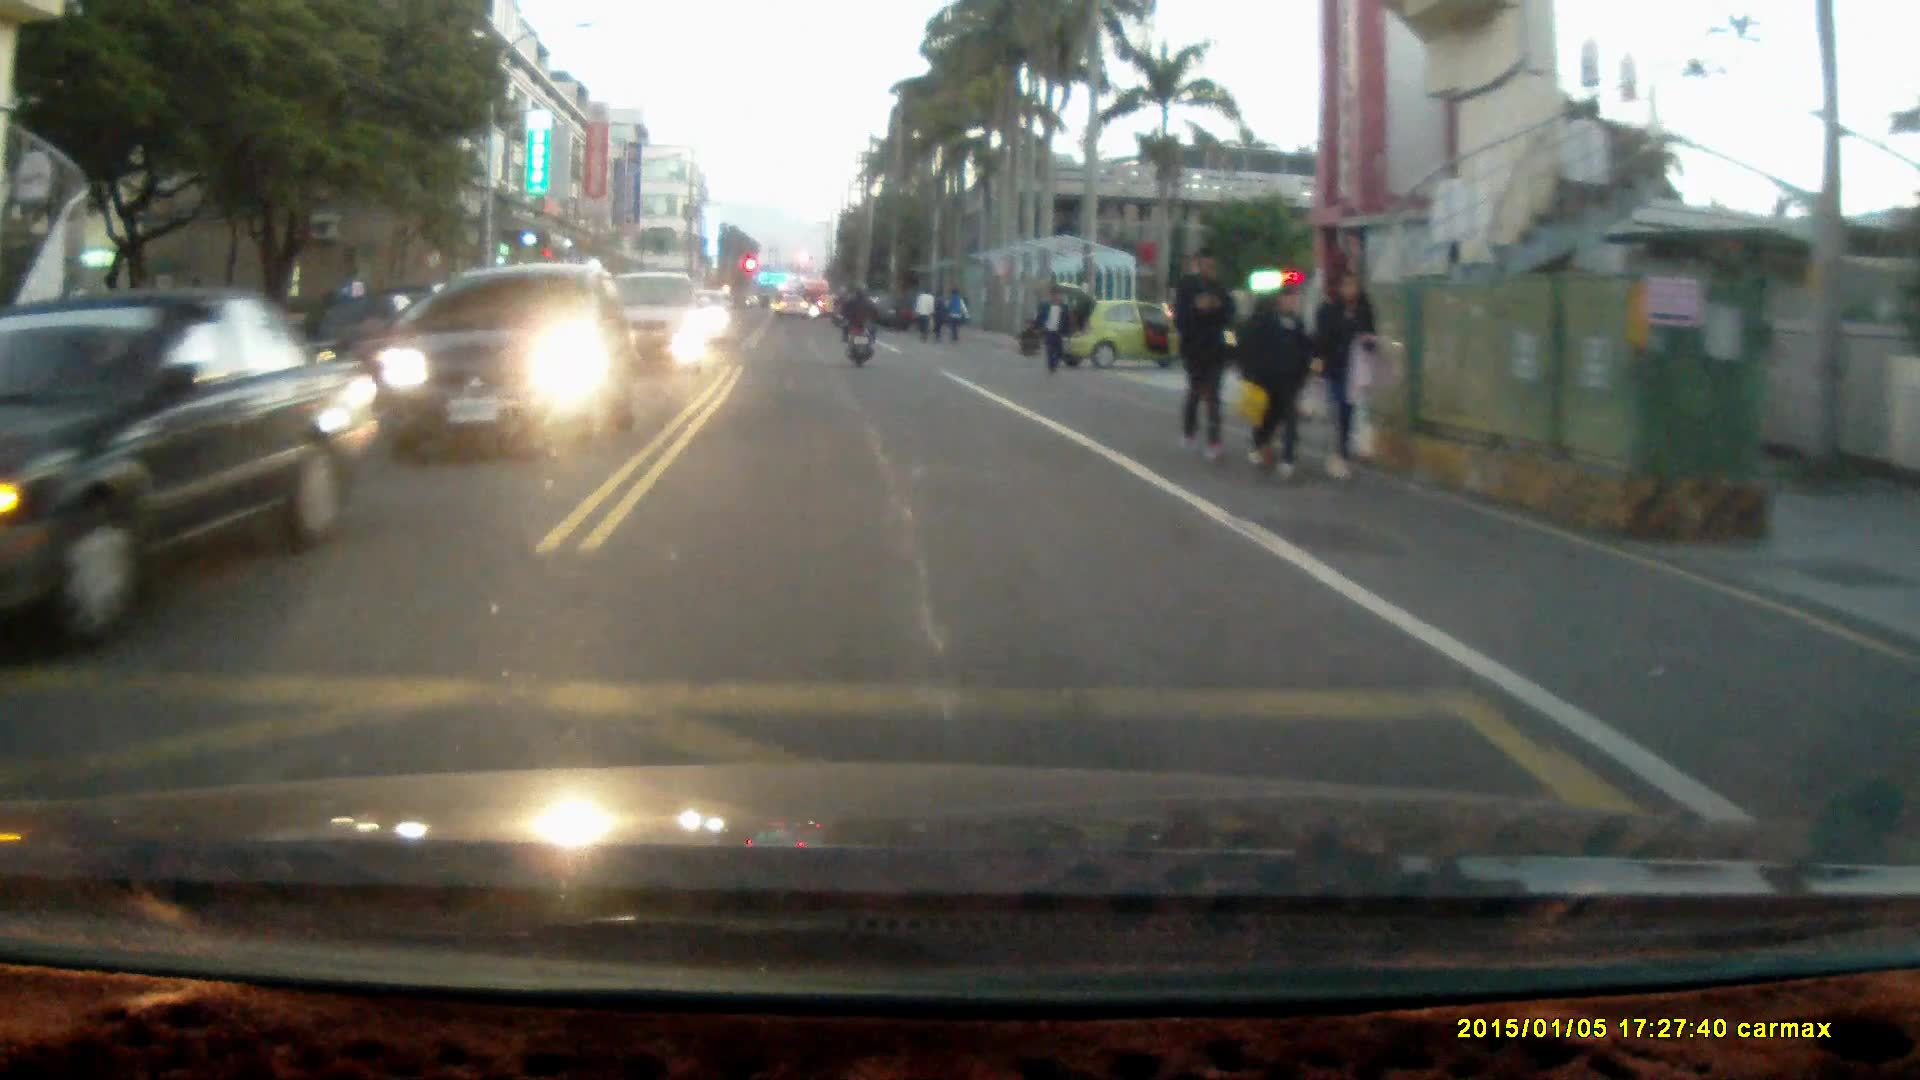pedestrian: (1234, 277, 1314, 482), (1169, 241, 1238, 467), (1313, 274, 1384, 484), (1035, 284, 1069, 378)
rider: (838, 277, 879, 366)
vehicle: (1, 281, 405, 657), (375, 259, 630, 457), (1050, 277, 1206, 369), (601, 272, 710, 375)
